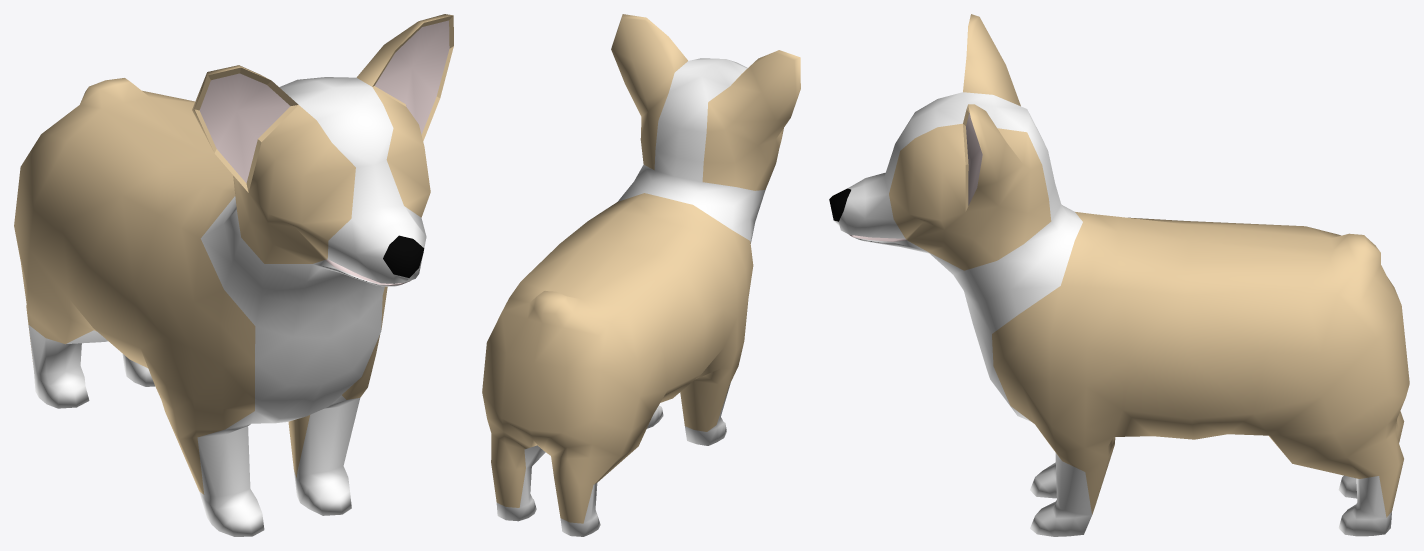
Rendered from corgi.fbx.
The picture shows the model from 3 angles, left to right: view 1: azimuth 30°, elevation 25°; view 2: azimuth 150°, elevation 25°; view 3: azimuth 270°, elevation 25°; orthographic projection. The views are drawn at different scales.
Parts seen in each view (by area): view 1: Corgi_body1; view 2: Corgi_body1; view 3: Corgi_body1.
Boxes of the visible parts, bbox=[...] form: Corgi_body1: bbox=[14, 14, 453, 536]; Corgi_body1: bbox=[482, 14, 800, 536]; Corgi_body1: bbox=[829, 14, 1409, 536].
Size of the model in its own units: 36.37 by 67.82 by 80.38.
